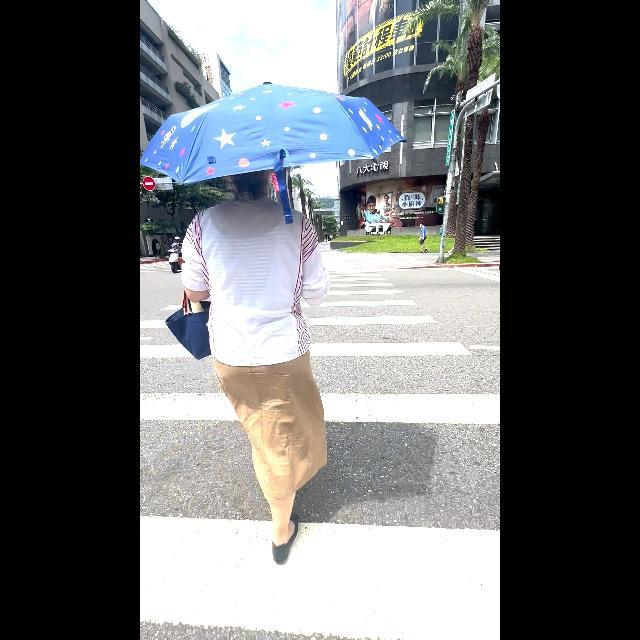sidewalk: (140, 258, 500, 640)
